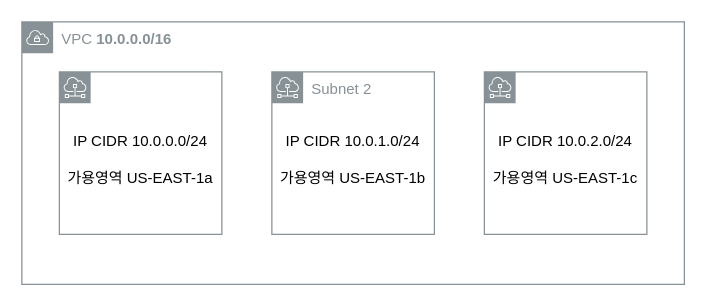
Some shapes in this 706 by 306 pixel diagram are drawn without their labels. Each missing label, with the box of its shape:
Subnet 1: (58, 71, 222, 234)
Subnet 3: (483, 71, 647, 234)
